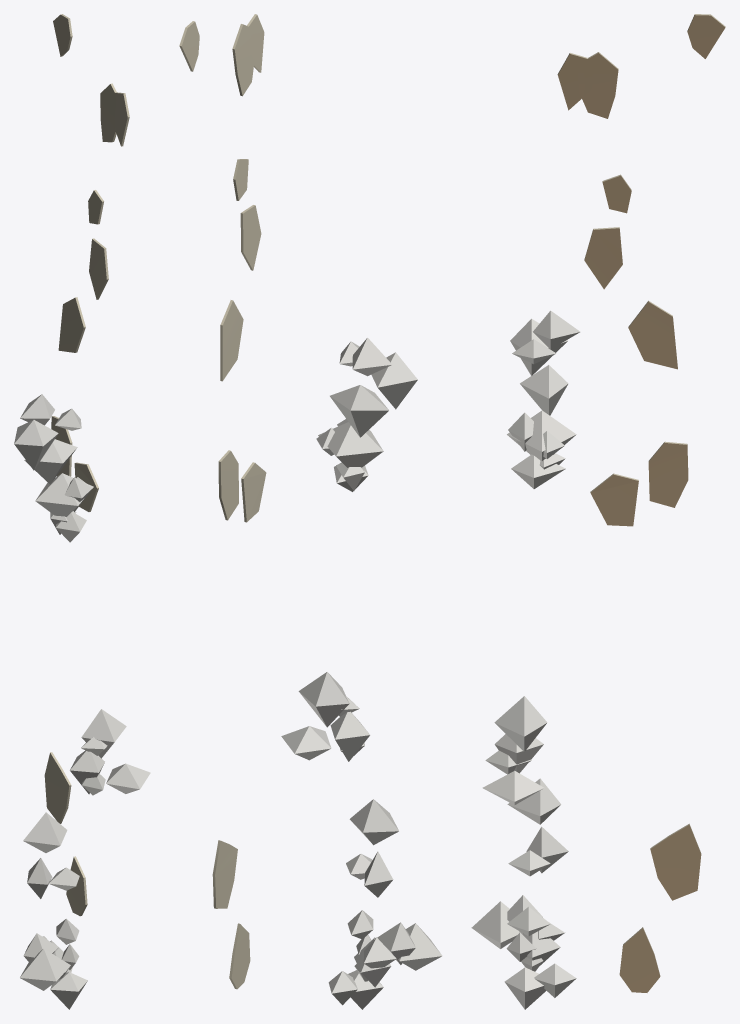
The model's file is Kit_DoorLeafBreak_Steel_DA_Deb1.fbx.
3 renders of one model, left to right at view 1: azimuth 30°, elevation 25°; view 2: azimuth 150°, elevation 25°; view 3: azimuth 270°, elevation 25°, orthographic. The views are drawn at different scales.
Parts seen in each view (by area): view 1: deb_gyp_05, deb_gyp_02, deb_gyp_04, deb_gyp_03, deb_gyp_01, deb_chip_04, deb_chip_08, deb_gyp_00, deb_chip_00, deb_chip_06, deb_chip_01, deb_chip_03 (+4 smaller); view 2: deb_gyp_05, deb_gyp_02, deb_gyp_03, deb_gyp_01, deb_gyp_04, deb_gyp_00, deb_chip_04, deb_chip_08, deb_chip_07, deb_chip_06, deb_chip_03, deb_chip_00 (+3 smaller); view 3: deb_gyp_02, deb_gyp_05, deb_gyp_03, deb_gyp_00, deb_chip_04, deb_gyp_04, deb_gyp_01, deb_chip_08, deb_chip_07, deb_chip_03, deb_chip_01, deb_chip_06 (+4 smaller).
Part boxes in pixels (bbox=[...]): deb_gyp_05: bbox=[14, 394, 81, 484]; deb_gyp_02: bbox=[70, 709, 150, 795]; deb_gyp_04: bbox=[20, 918, 79, 990]; deb_gyp_03: bbox=[35, 473, 93, 542]; deb_gyp_01: bbox=[23, 812, 79, 898]; deb_chip_04: bbox=[44, 752, 71, 823]; deb_chip_08: bbox=[58, 297, 85, 352]; deb_gyp_00: bbox=[43, 936, 87, 1009]; deb_chip_00: bbox=[89, 238, 108, 299]; deb_chip_06: bbox=[100, 83, 116, 142]; deb_chip_01: bbox=[66, 856, 87, 916]; deb_chip_03: bbox=[74, 462, 98, 511]; deb_gyp_05: bbox=[330, 337, 417, 437]; deb_gyp_02: bbox=[281, 672, 369, 761]; deb_gyp_03: bbox=[316, 419, 383, 491]; deb_gyp_01: bbox=[346, 799, 398, 897]; deb_gyp_04: bbox=[347, 910, 442, 970]; deb_gyp_00: bbox=[328, 937, 396, 1009]; deb_chip_04: bbox=[212, 840, 237, 908]; deb_chip_08: bbox=[220, 300, 243, 381]; deb_chip_07: bbox=[218, 450, 238, 520]; deb_chip_06: bbox=[232, 24, 253, 96]; deb_chip_03: bbox=[241, 462, 266, 522]; deb_chip_00: bbox=[240, 205, 261, 270]; deb_gyp_02: bbox=[482, 696, 547, 805]; deb_gyp_05: bbox=[510, 310, 580, 415]; deb_gyp_03: bbox=[507, 410, 576, 488]; deb_gyp_00: bbox=[504, 922, 576, 1009]; deb_chip_04: bbox=[650, 823, 701, 900]; deb_gyp_04: bbox=[471, 895, 550, 961]; deb_gyp_01: bbox=[507, 778, 568, 876]; deb_chip_08: bbox=[628, 300, 677, 369]; deb_chip_07: bbox=[648, 441, 688, 507]; deb_chip_03: bbox=[590, 473, 638, 526]; deb_chip_01: bbox=[619, 927, 660, 992]; deb_chip_06: bbox=[577, 52, 618, 118].
Bounding box in the file's own units: 0.0332 × 0.2118 × 0.0471.
